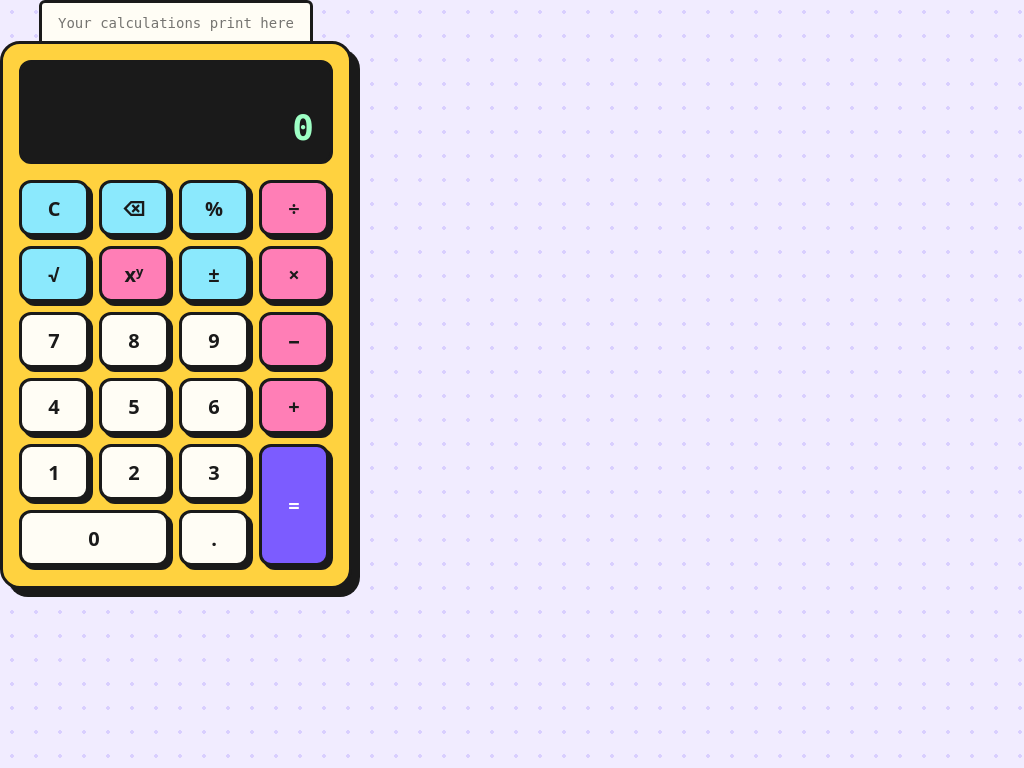
Calculator › subtracts through the backend
Click the button "9": [214, 340] box x1=179 y1=312 x2=249 y2=368
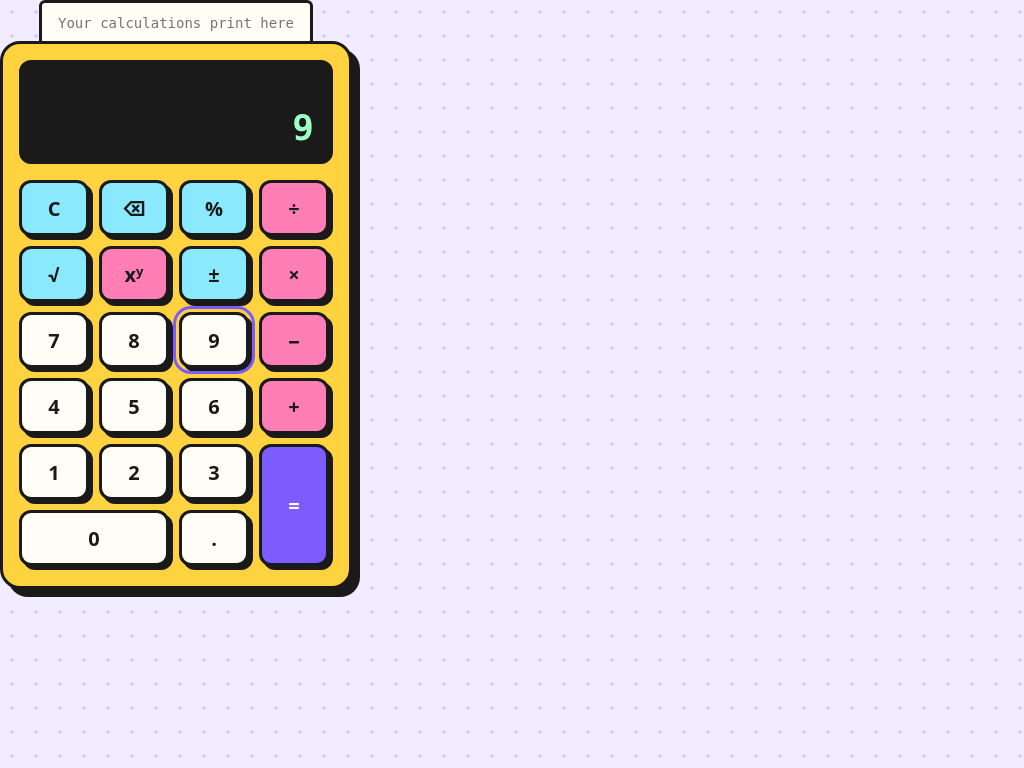
Click the button named "Subtract": [294, 340] box x1=259 y1=312 x2=329 y2=368
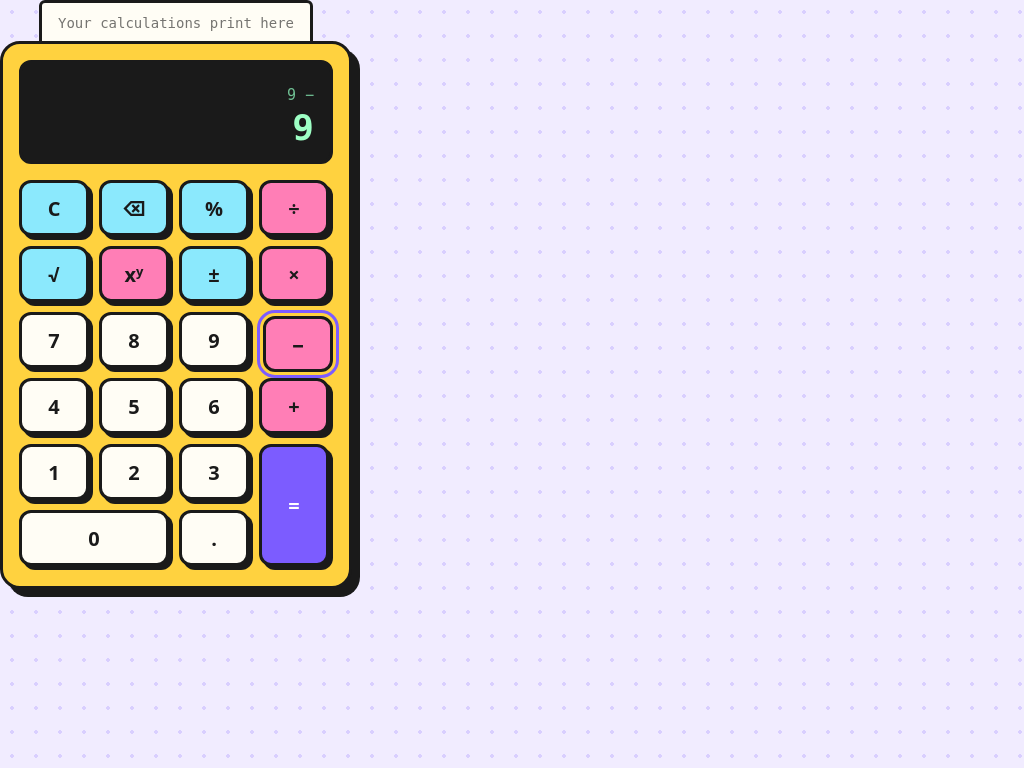
Click the button "4": [54, 406] box x1=19 y1=378 x2=89 y2=434
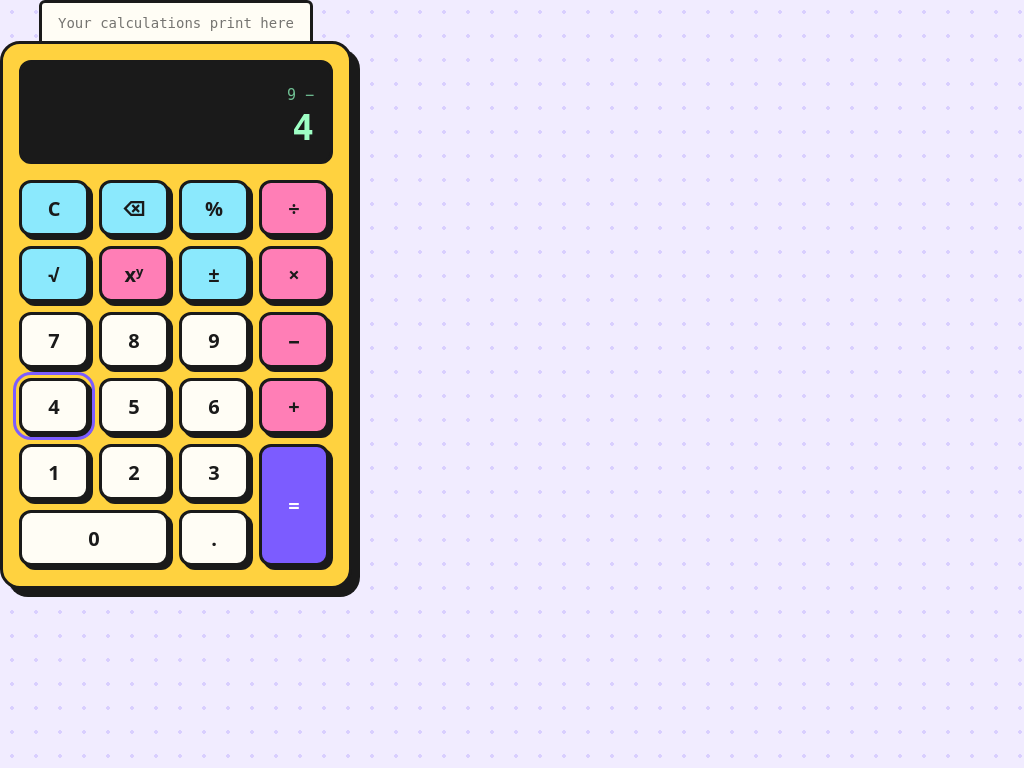
Click the button named "Equals": [294, 505] box x1=259 y1=444 x2=329 y2=566
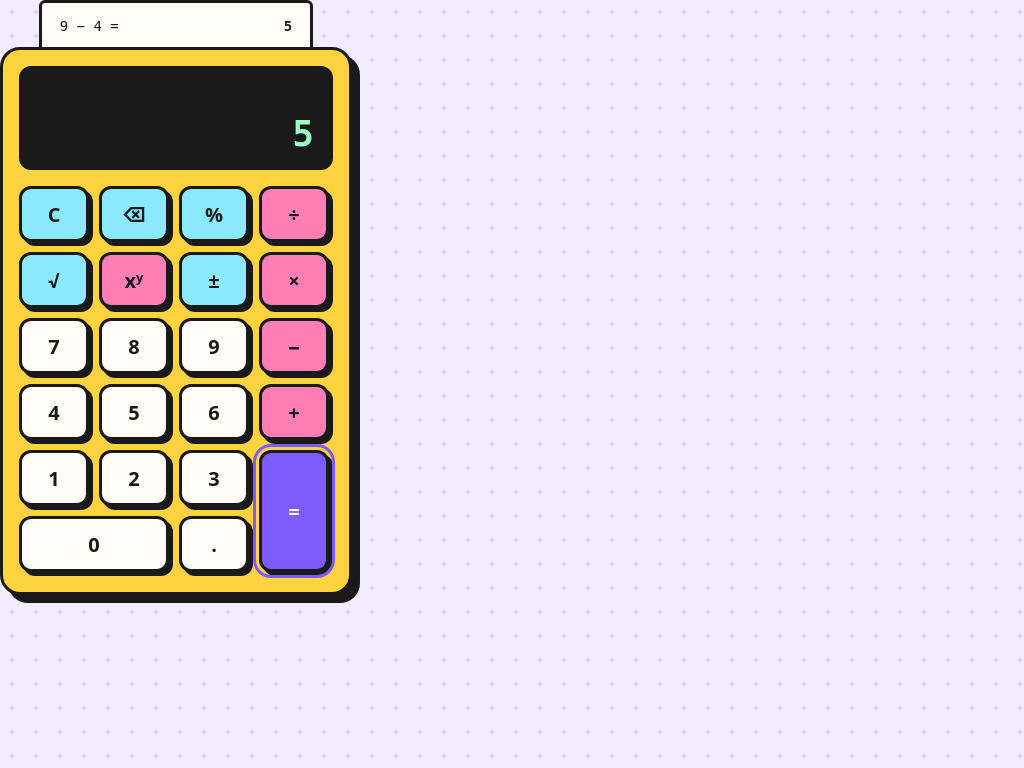
expect the text named "Result" reads "5": met, box x1=292 y1=113 x2=314 y2=154
